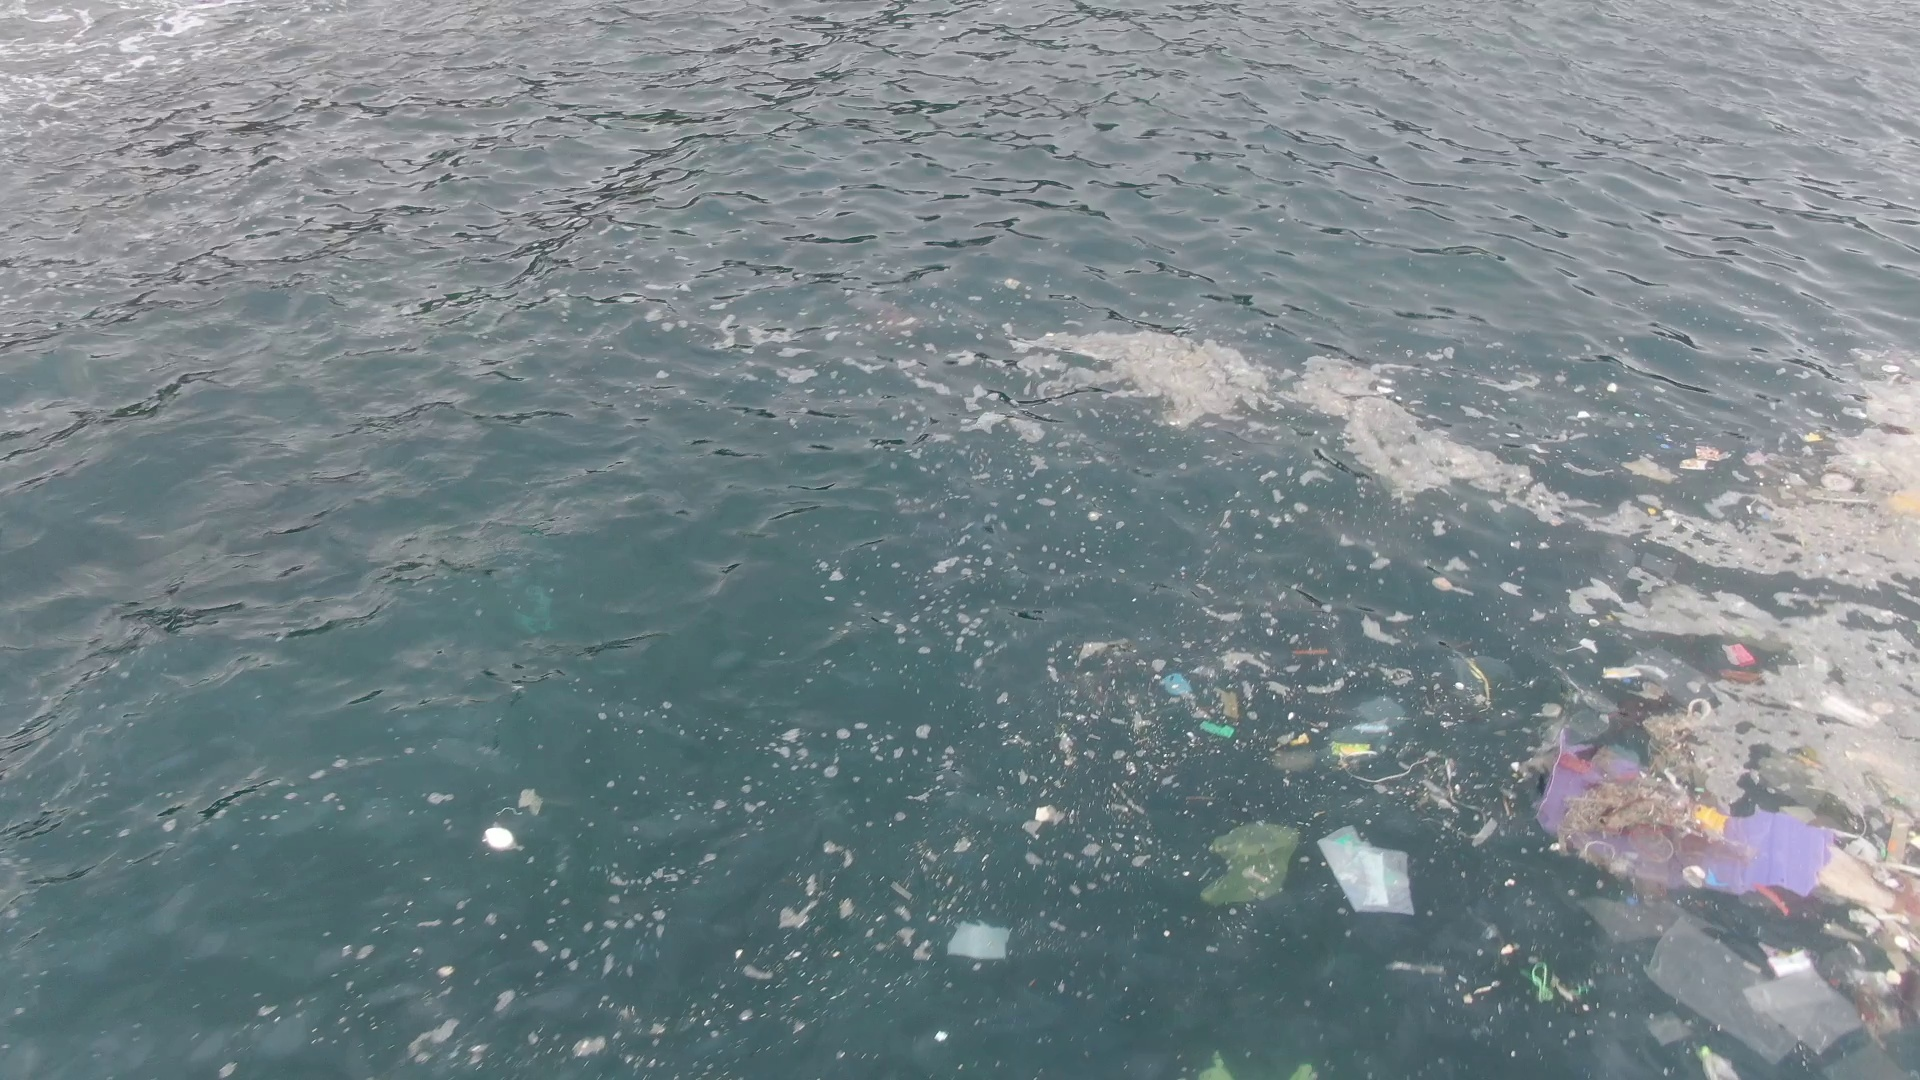bottle: (1692, 1048, 1742, 1077)
garbage: (1542, 728, 1919, 898), (1604, 907, 1867, 1062), (1323, 829, 1414, 919), (1201, 825, 1296, 905), (1335, 703, 1407, 762), (945, 916, 1011, 963), (1523, 964, 1571, 1005), (1717, 644, 1760, 682), (1683, 444, 1731, 473), (483, 819, 521, 853), (1162, 671, 1196, 696)
